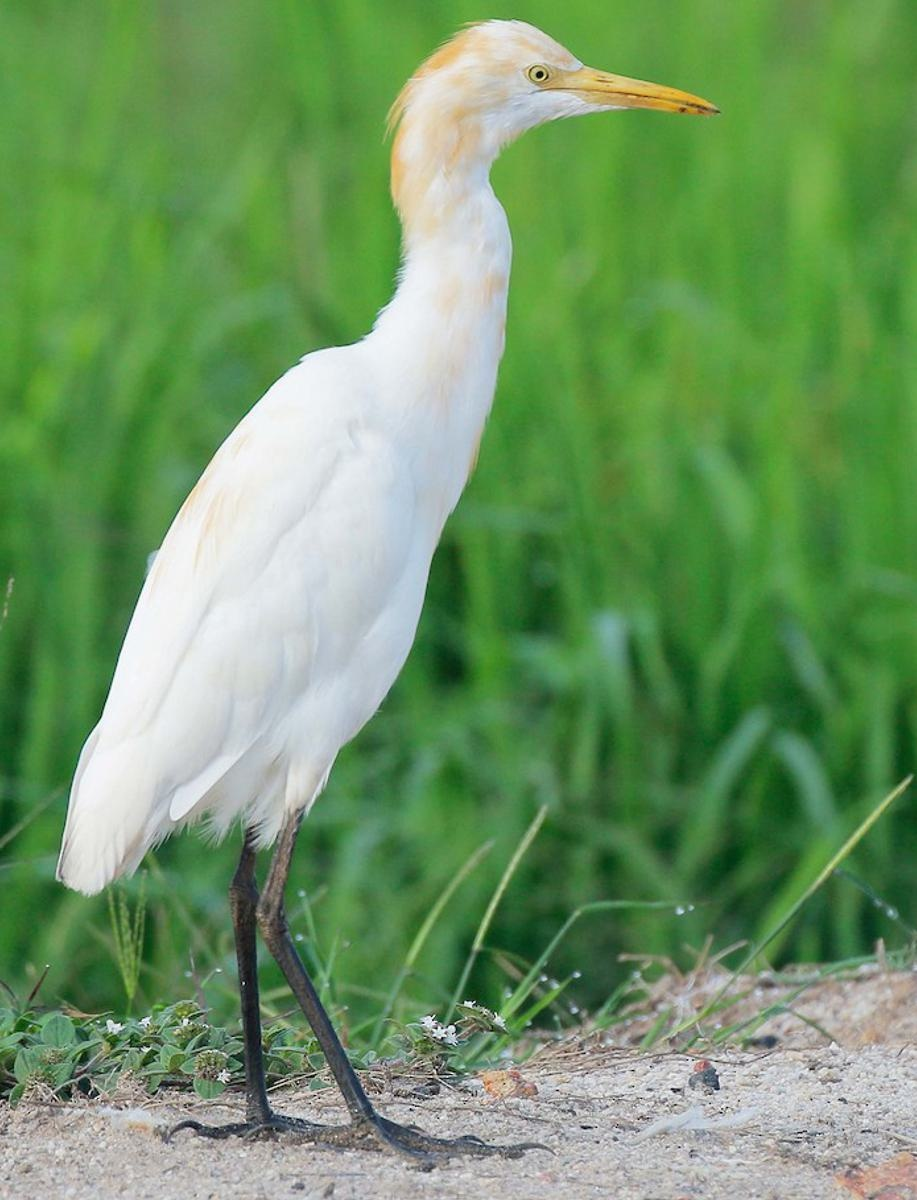egret: (23, 30, 748, 1168)
